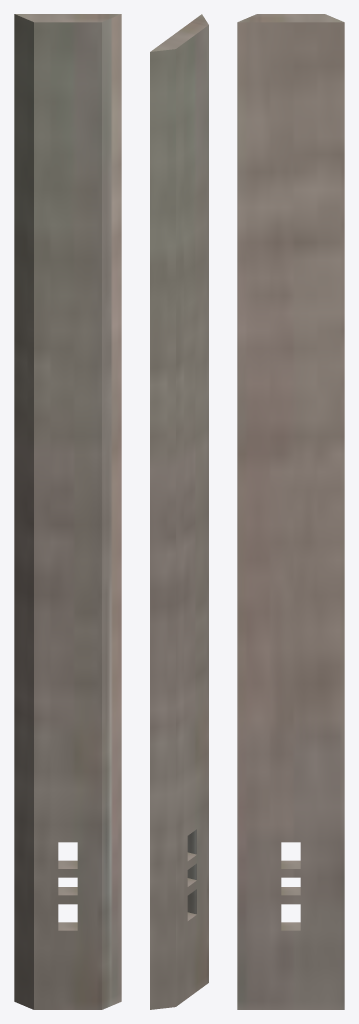
The model's file is original-24.obj.
The picture shows the model from 3 angles, left to right: view 1: azimuth 90°, elevation 25°; view 2: azimuth 150°, elevation 25°; view 3: azimuth 270°, elevation 25°; orthographic projection. The views are drawn at different scales.
Visible parts, largest first — view 1: Leg2_1/Leg2/mesh26/mesh26-geometry#mesh26-geometry; view 2: Leg2_1/Leg2/mesh26/mesh26-geometry#mesh26-geometry; view 3: Leg2_1/Leg2/mesh26/mesh26-geometry#mesh26-geometry.
Boxes of the visible parts, bbox=[...] form: Leg2_1/Leg2/mesh26/mesh26-geometry#mesh26-geometry: bbox=[14, 14, 121, 1009]; Leg2_1/Leg2/mesh26/mesh26-geometry#mesh26-geometry: bbox=[150, 14, 208, 1009]; Leg2_1/Leg2/mesh26/mesh26-geometry#mesh26-geometry: bbox=[237, 14, 344, 1009].
Bounding box in the file's own units: 0.0182 × 1.02 × 0.1.
